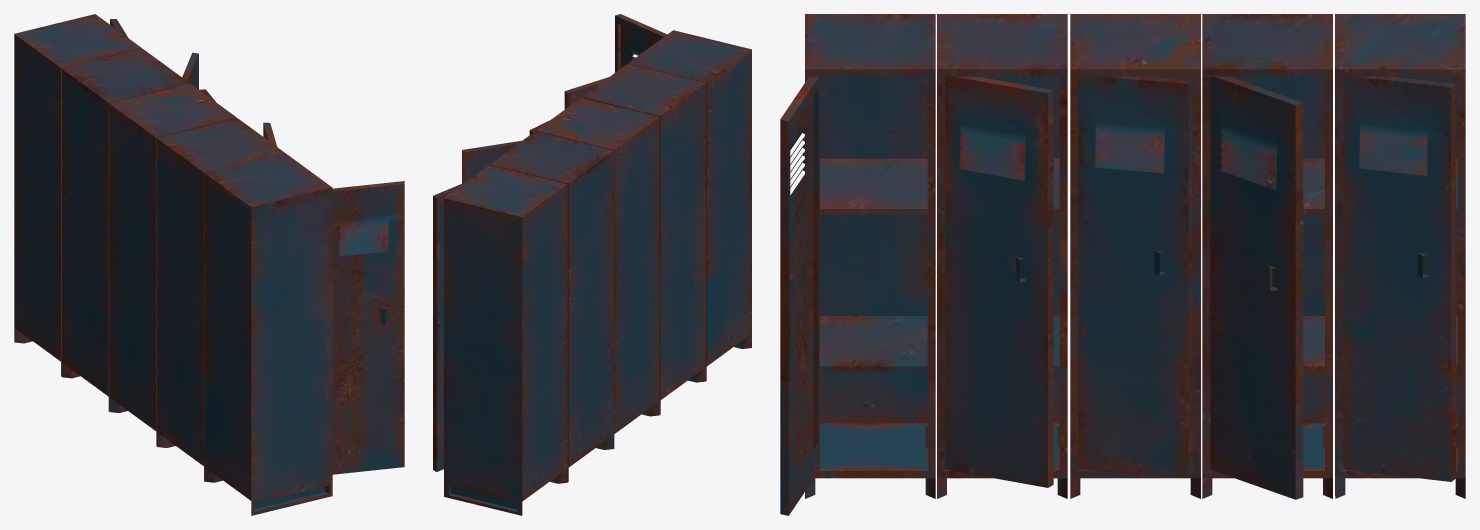
The model's file is prop_locker.glb.
The picture shows the model from 3 angles, left to right: view 1: azimuth 30°, elevation 25°; view 2: azimuth 150°, elevation 25°; view 3: azimuth 270°, elevation 25°; orthographic projection. The views are drawn at different scales.
Visible parts, largest first — view 1: door_2; view 2: door_2; view 3: door_2.
Boxes of the visible parts, x1,y1,x2,y2 form: door_2: [14, 14, 404, 515]; door_2: [433, 14, 751, 515]; door_2: [780, 14, 1465, 515].
Size of what is drawn, in the model's own units: 1.03 by 2.07 by 2.99.
1 material, 1 textured.
